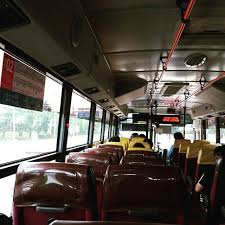seat: (22, 155, 94, 220)
